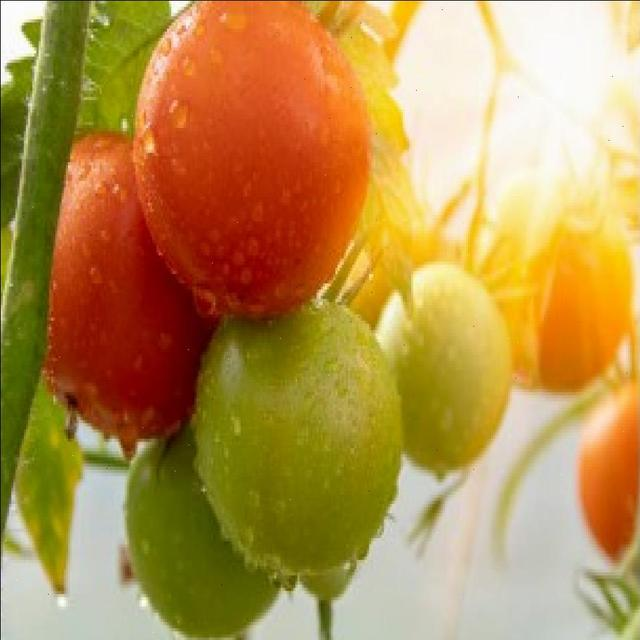Healthy Fruit: (79, 100, 163, 227)
